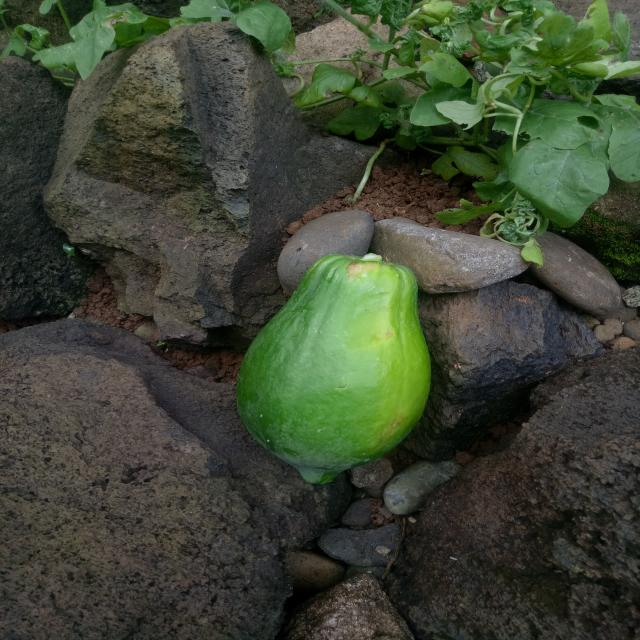Pepaya unrippen: (236, 243, 435, 485)
